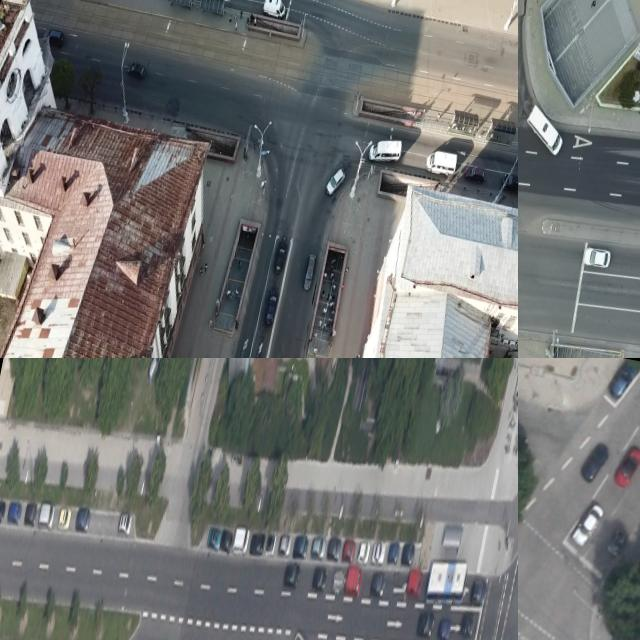UAI: (571, 498, 609, 551), (577, 438, 613, 487), (607, 358, 640, 403), (613, 443, 640, 492), (582, 245, 613, 271), (263, 285, 282, 327), (324, 165, 347, 199), (605, 528, 629, 559), (145, 358, 166, 388), (302, 252, 318, 291), (345, 568, 365, 599), (407, 567, 426, 598), (416, 611, 436, 640), (273, 239, 289, 275), (471, 576, 489, 608), (38, 501, 57, 530), (232, 526, 251, 555), (284, 562, 303, 590), (370, 570, 388, 599), (42, 26, 66, 47), (459, 610, 476, 639), (126, 60, 148, 81), (312, 565, 329, 591), (76, 505, 93, 531), (249, 531, 266, 557), (293, 534, 310, 560), (464, 166, 488, 184), (311, 536, 328, 561), (7, 501, 24, 525), (357, 538, 372, 565), (279, 531, 294, 557), (372, 539, 387, 565), (327, 536, 343, 560), (401, 542, 417, 566), (332, 569, 346, 596), (118, 512, 134, 535), (207, 526, 223, 549), (437, 616, 452, 640), (24, 502, 39, 526), (58, 506, 73, 530), (219, 529, 234, 553), (342, 539, 357, 563), (387, 540, 401, 565), (501, 173, 518, 193), (266, 532, 278, 556), (0, 499, 7, 523)
car: (425, 557, 469, 610)
harvester: (520, 103, 569, 157), (368, 135, 404, 167), (424, 148, 459, 178), (261, 0, 287, 20)
